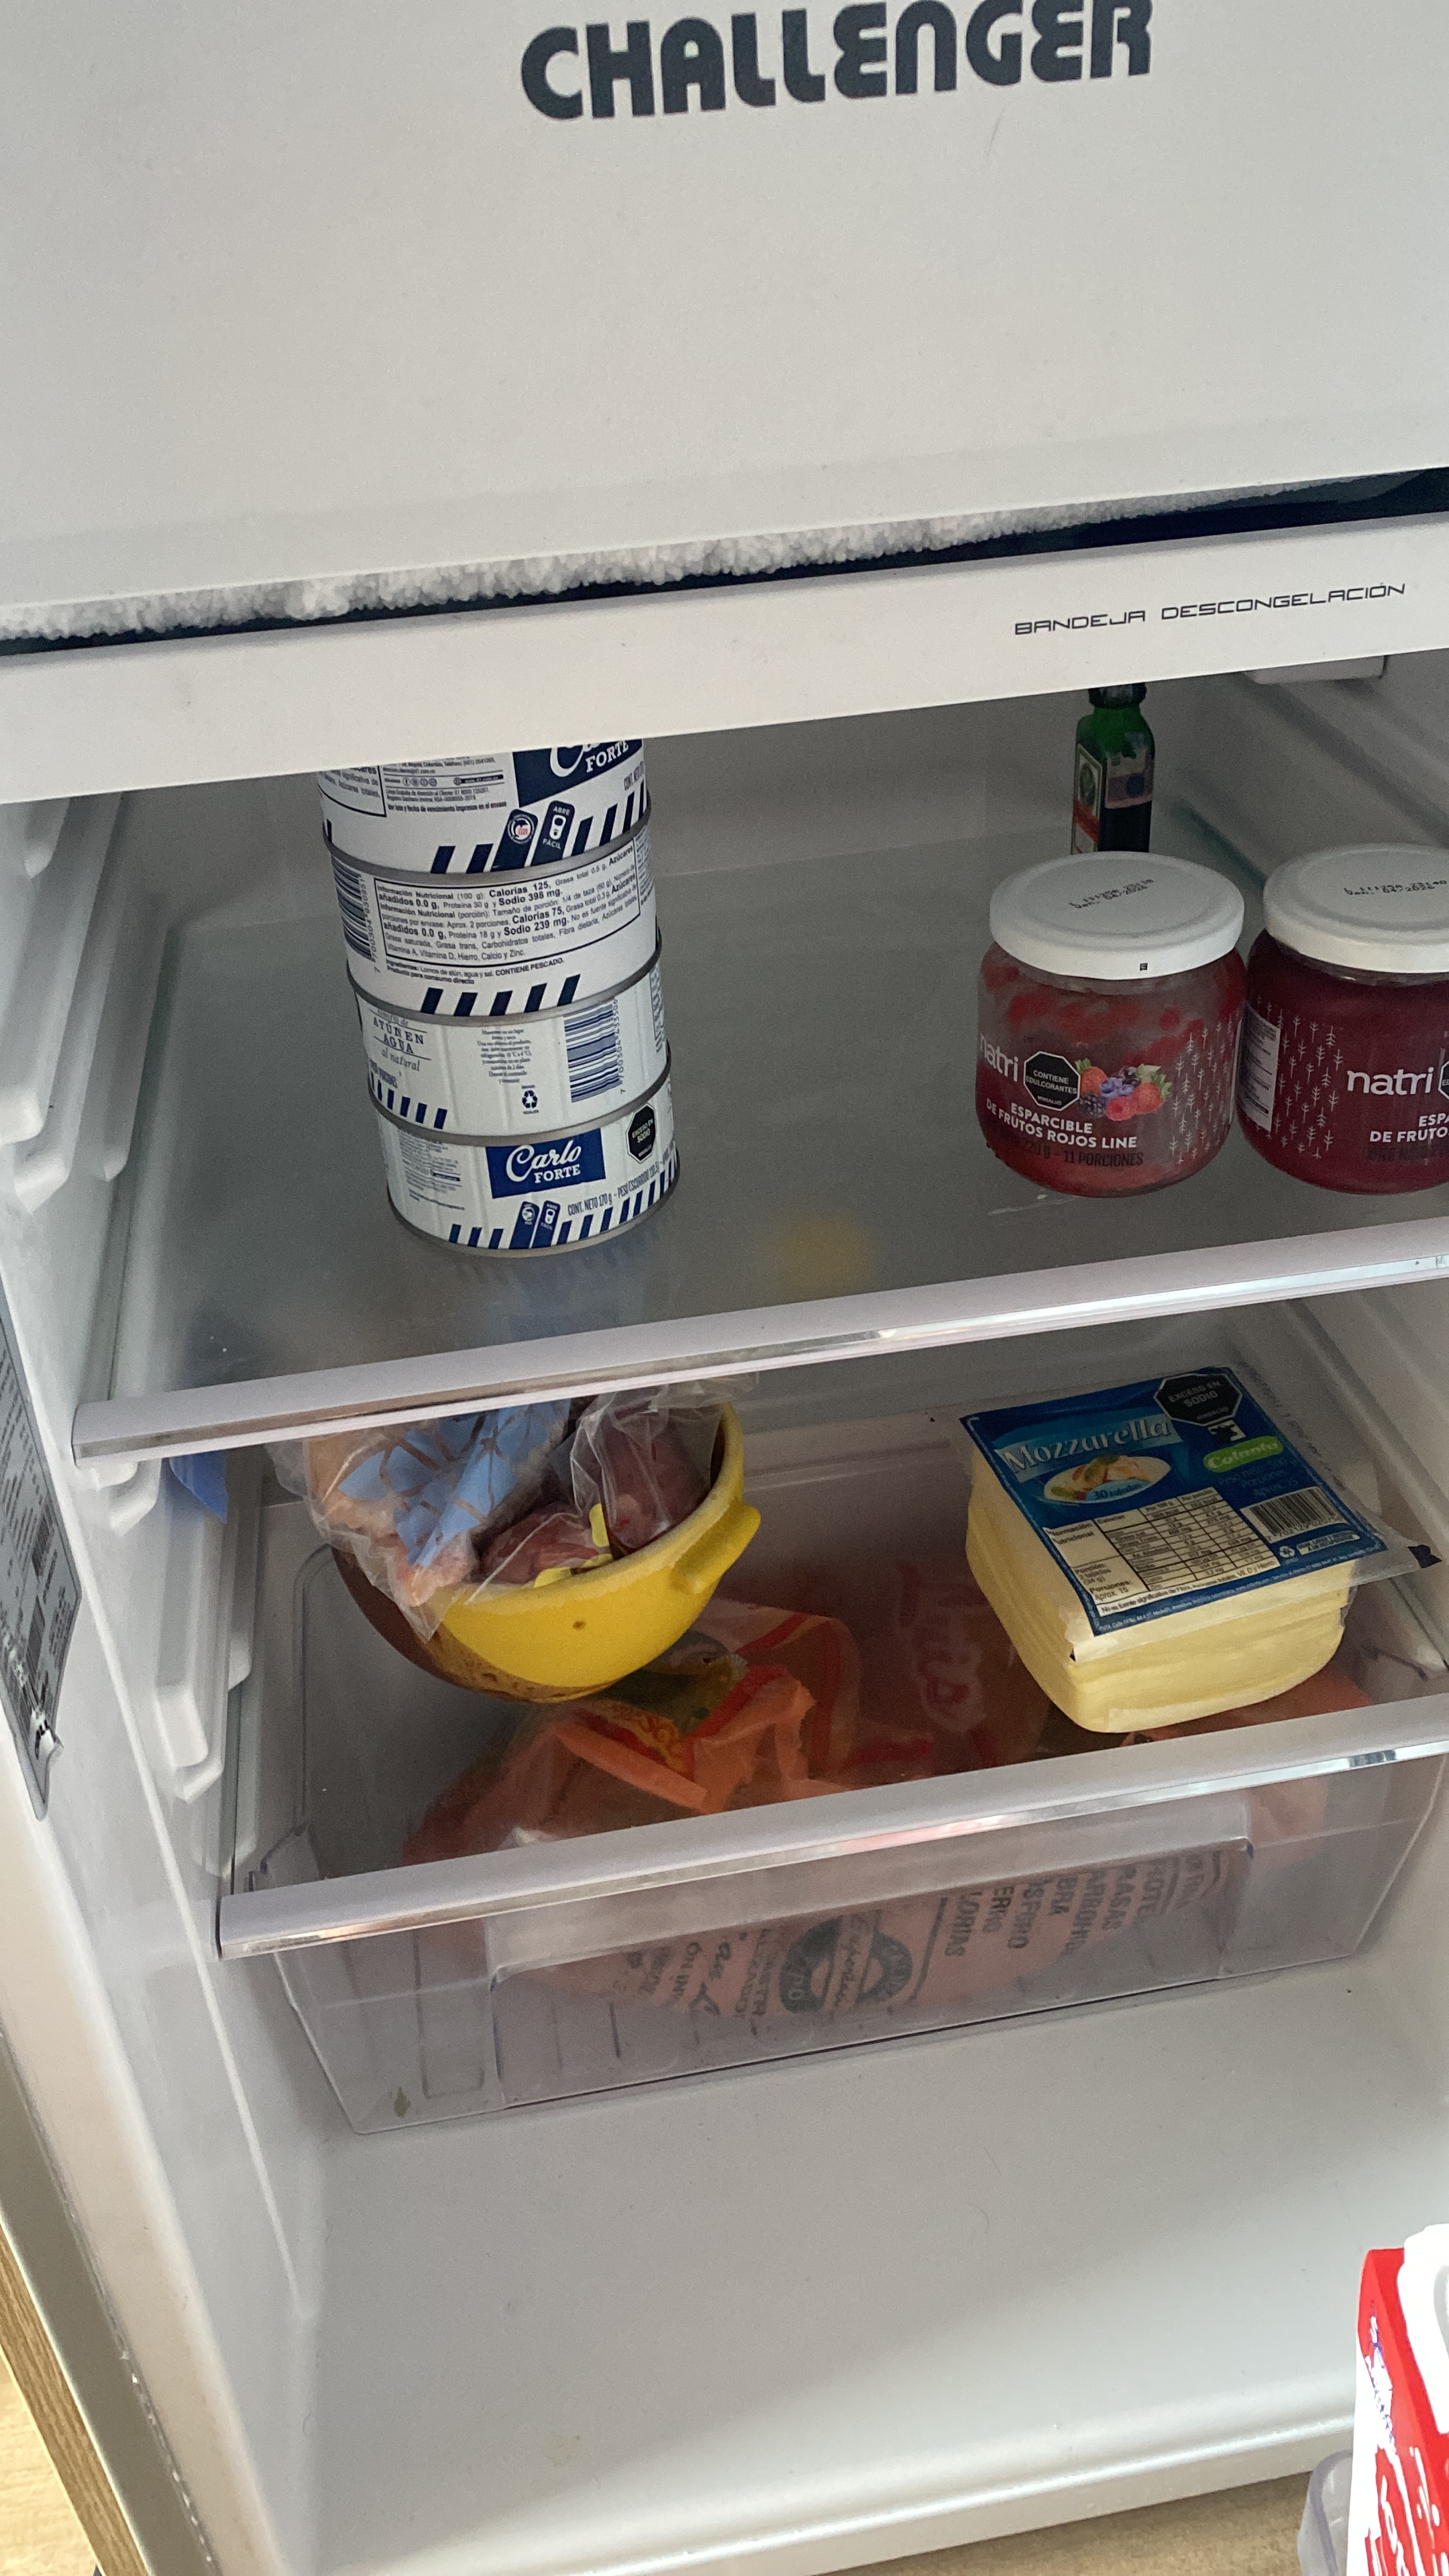Atun: (350, 1090, 683, 1260), (324, 872, 663, 1014), (357, 996, 663, 1136), (317, 754, 646, 872)
